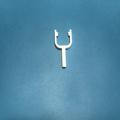u-shape: (53, 28, 73, 69)
